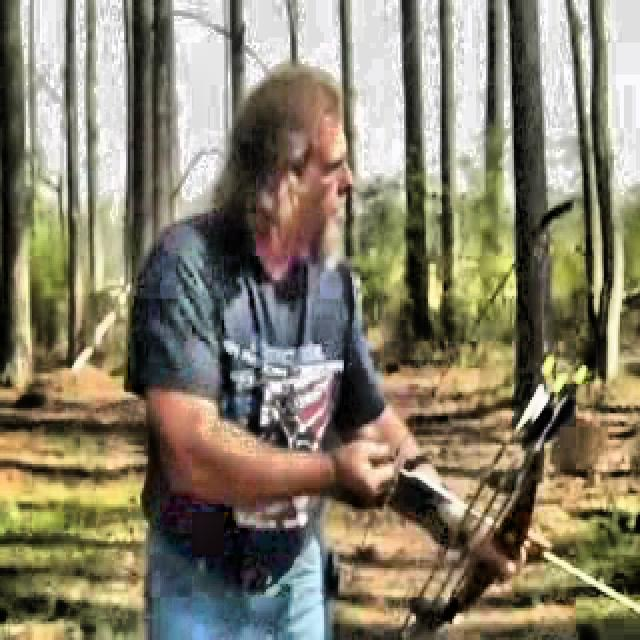I: (108, 41, 568, 612)
